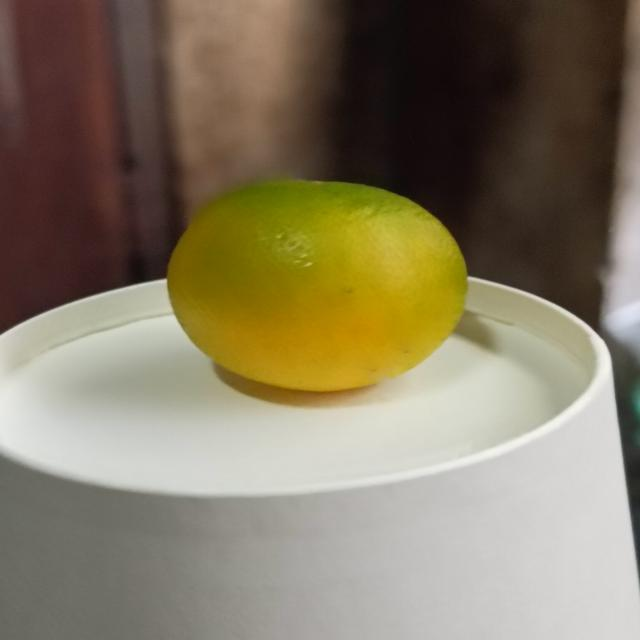greening: (158, 170, 478, 396)
